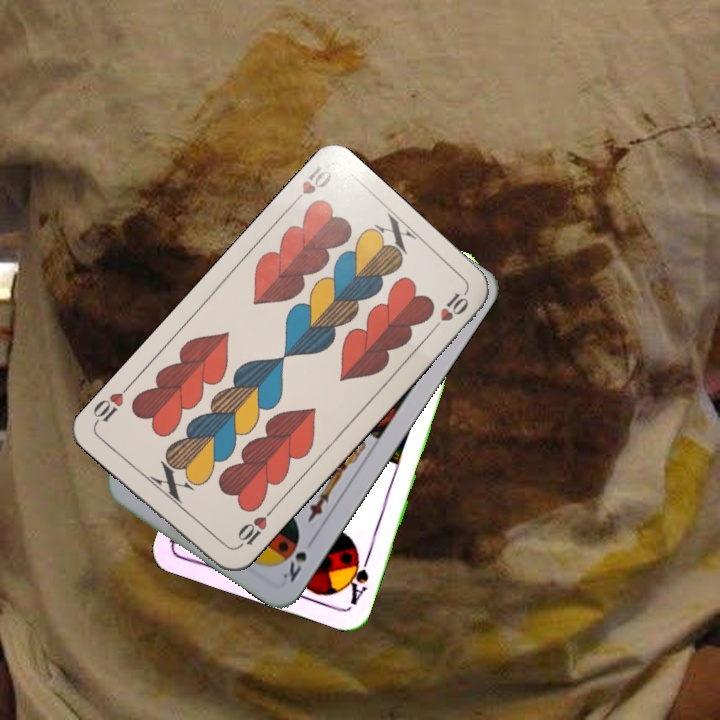H10: (285, 162, 334, 210), (230, 505, 276, 553)
SA: (341, 547, 373, 608)
SK: (278, 547, 310, 585)
